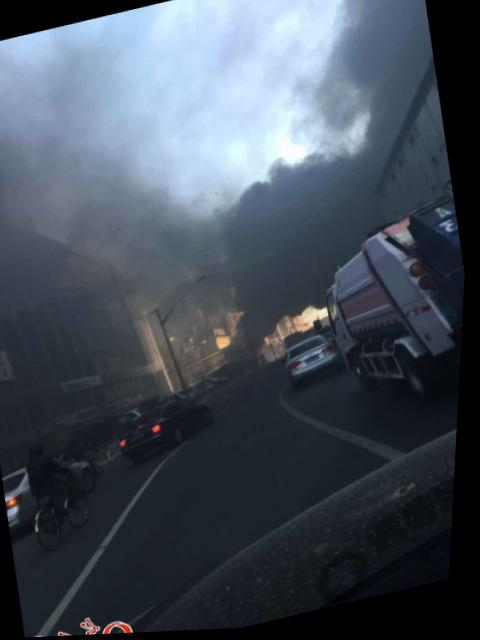smoke: (203, 130, 383, 290), (317, 0, 447, 136), (225, 272, 330, 345)
